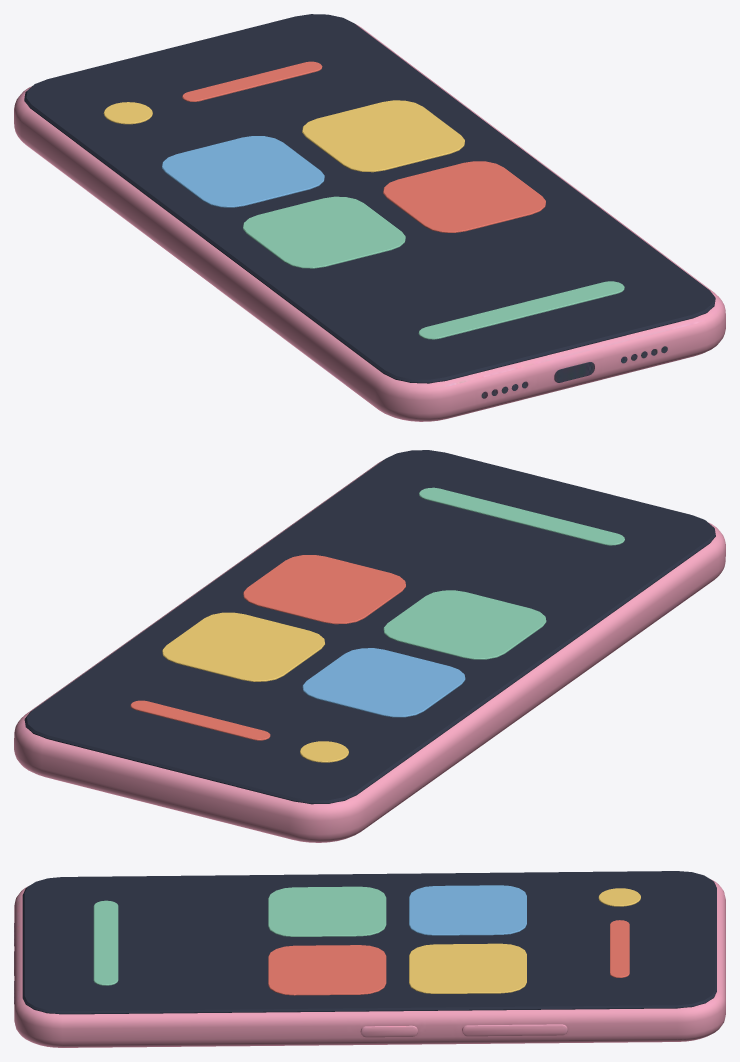
File: smartphone.glb
3 renders of one model, top to bottom at view 1: azimuth 30°, elevation 25°; view 2: azimuth 150°, elevation 25°; view 3: azimuth 270°, elevation 25°, orthographic. The views are drawn at different scales.
Visible parts, largest first — view 1: smartphone_glass, smartphone_body; view 2: smartphone_glass, smartphone_body; view 3: smartphone_glass, smartphone_body.
Boxes of the visible parts, <box> form: smartphone_glass: <box>24,14,715,383</box>; smartphone_body: <box>14,24,725,421</box>; smartphone_glass: <box>24,450,715,804</box>; smartphone_body: <box>14,460,725,842</box>; smartphone_glass: <box>22,871,716,1014</box>; smartphone_body: <box>14,879,725,1047</box>.
Bounding box in the file's own units: 0.0719 × 0.0103 × 0.1476.
6 materials, 1 textured.
